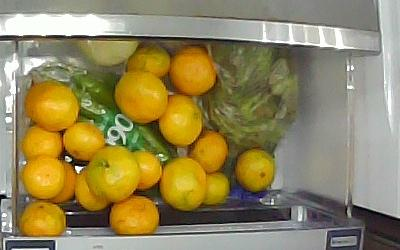tangerine: (86, 147, 141, 202), (115, 71, 168, 124), (25, 81, 78, 132), (161, 157, 208, 212), (170, 44, 216, 93), (160, 94, 202, 147), (109, 196, 161, 235), (18, 200, 66, 237), (236, 148, 276, 192), (190, 128, 227, 175), (64, 120, 106, 161), (23, 157, 64, 198), (127, 44, 171, 78), (126, 151, 163, 189), (75, 167, 107, 210), (22, 126, 63, 159), (51, 163, 78, 202), (203, 172, 229, 204)
